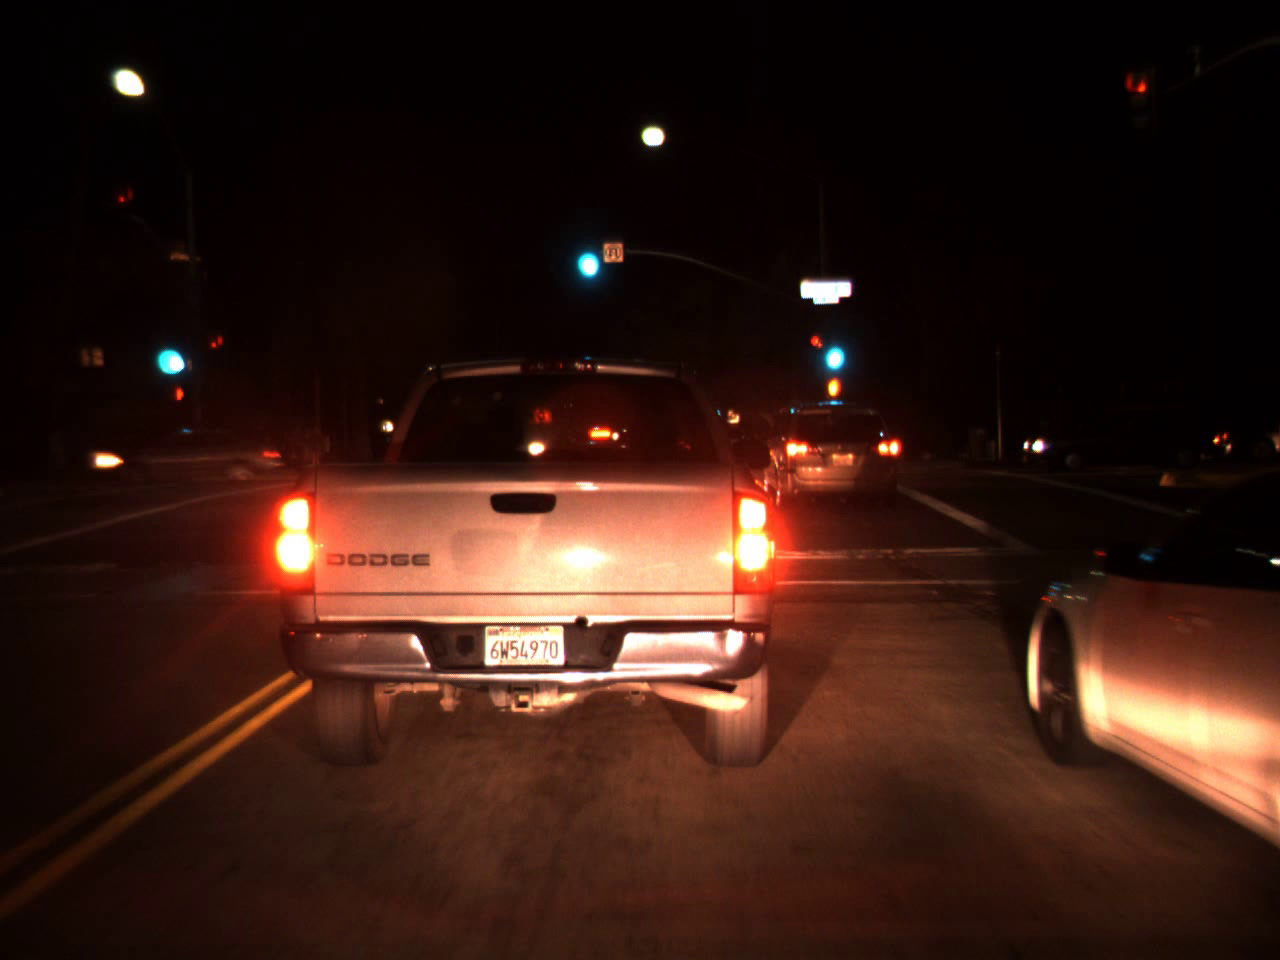go: (569, 221, 603, 287), (150, 322, 186, 379), (817, 316, 849, 379)
